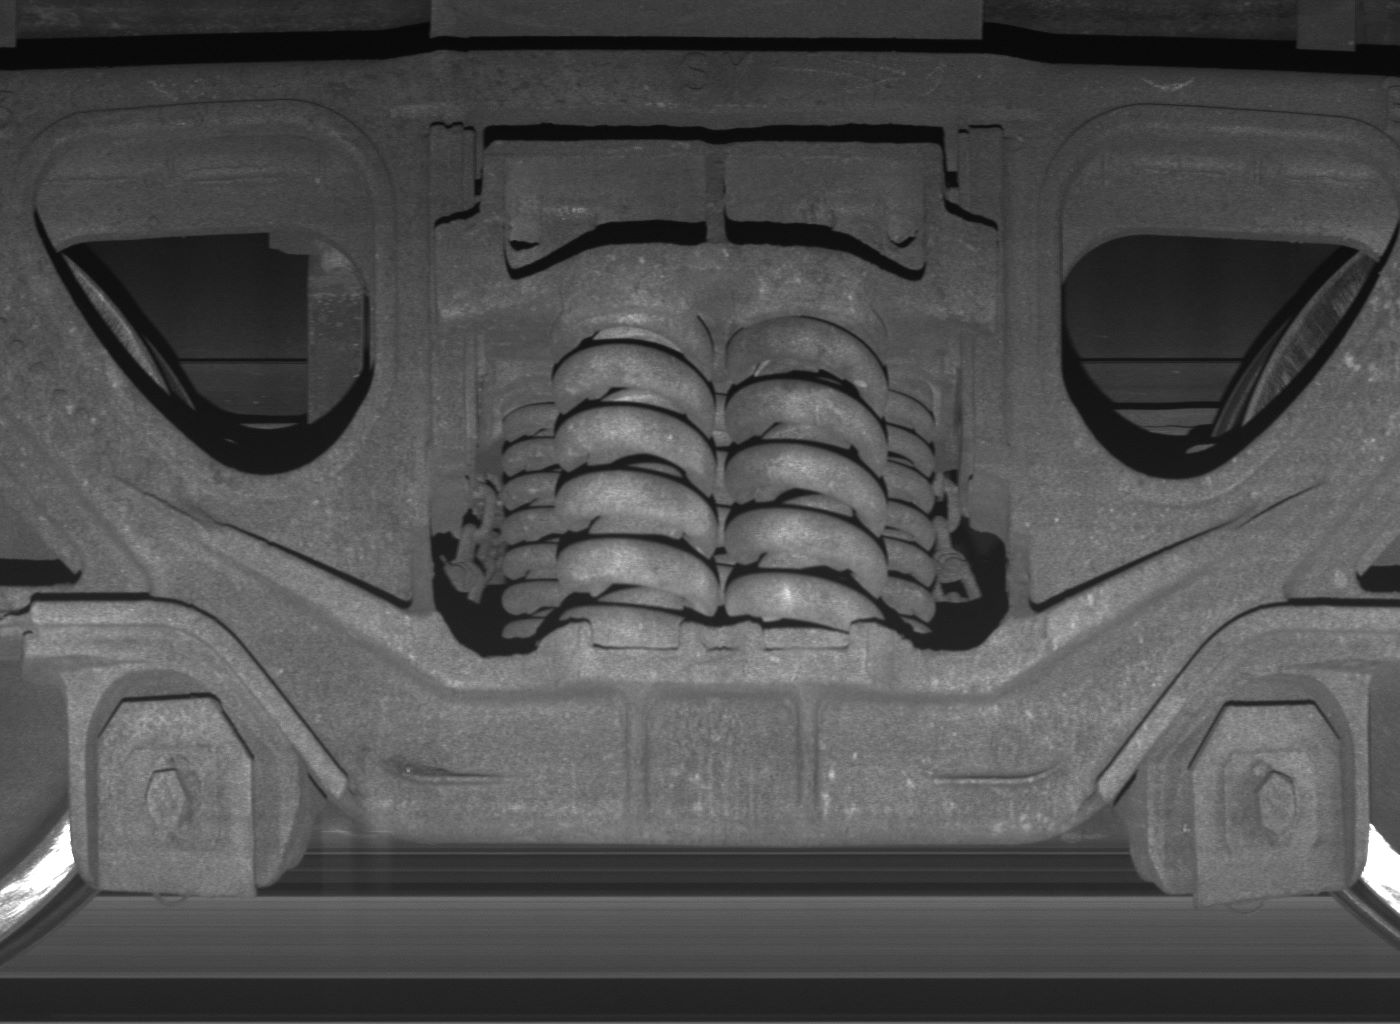Locking plate: (1150, 671, 1368, 908)
normal: (68, 669, 300, 898)
